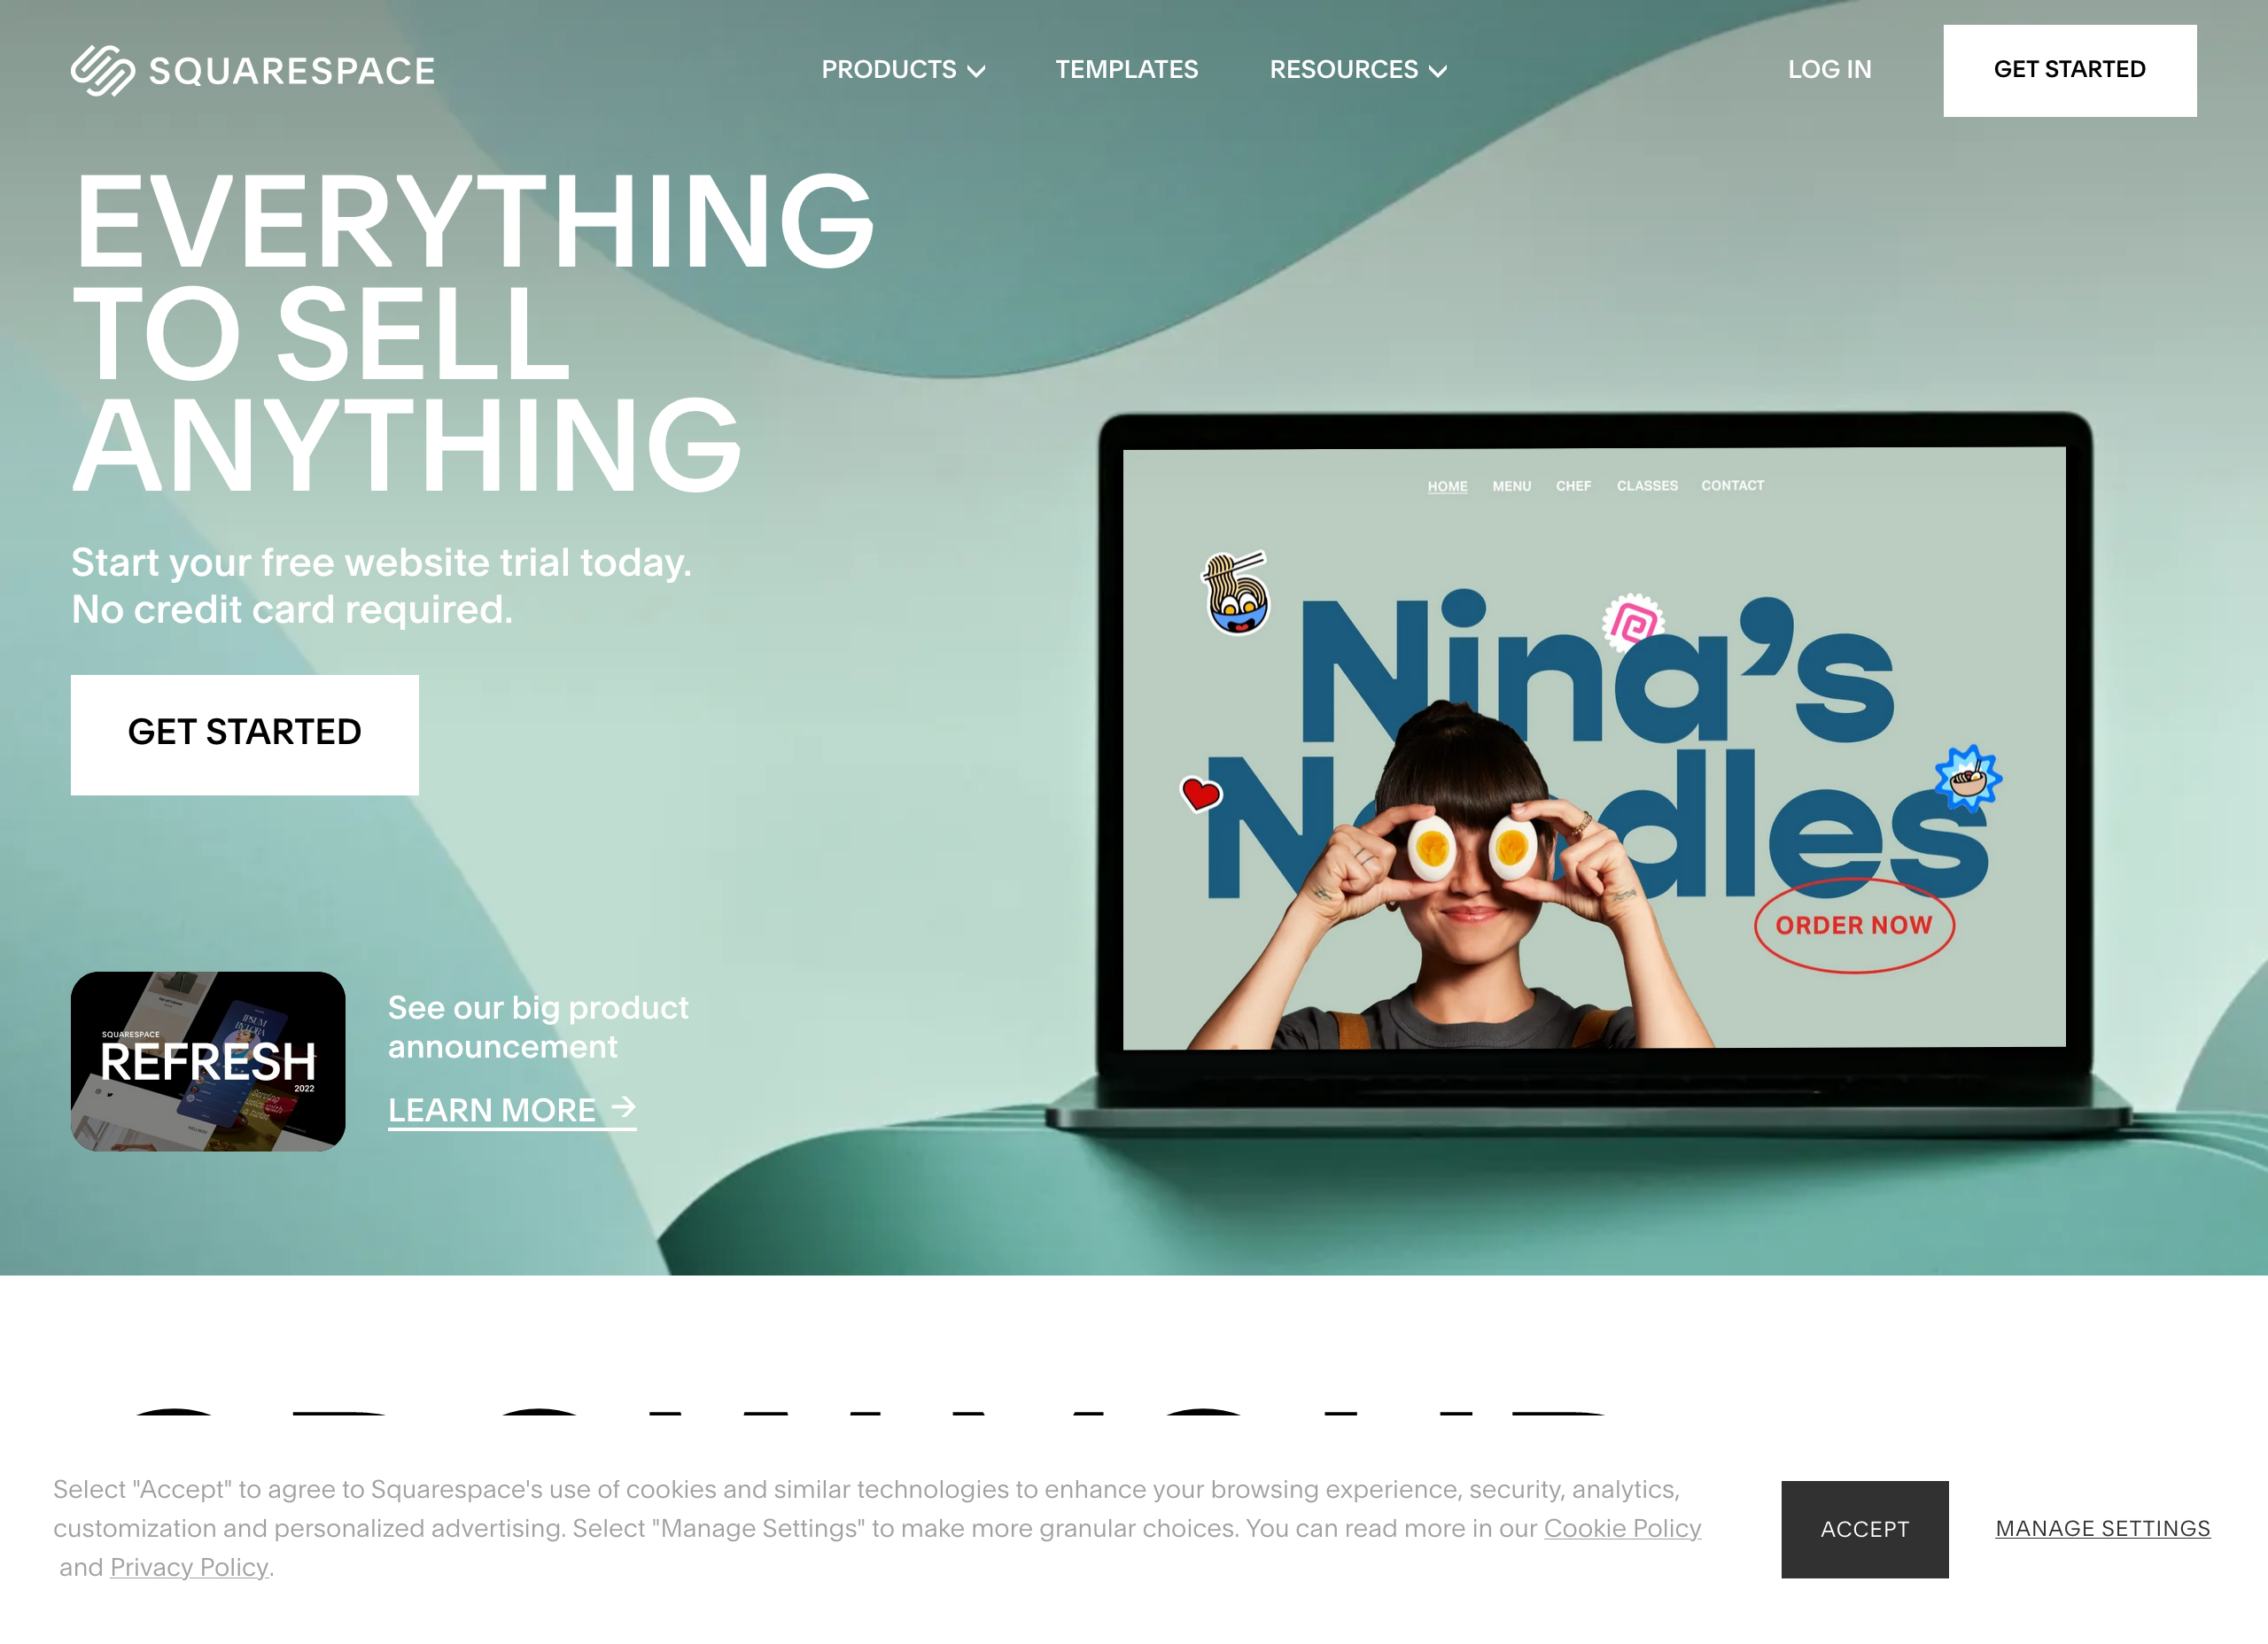Login: (1766, 42, 1888, 114)
